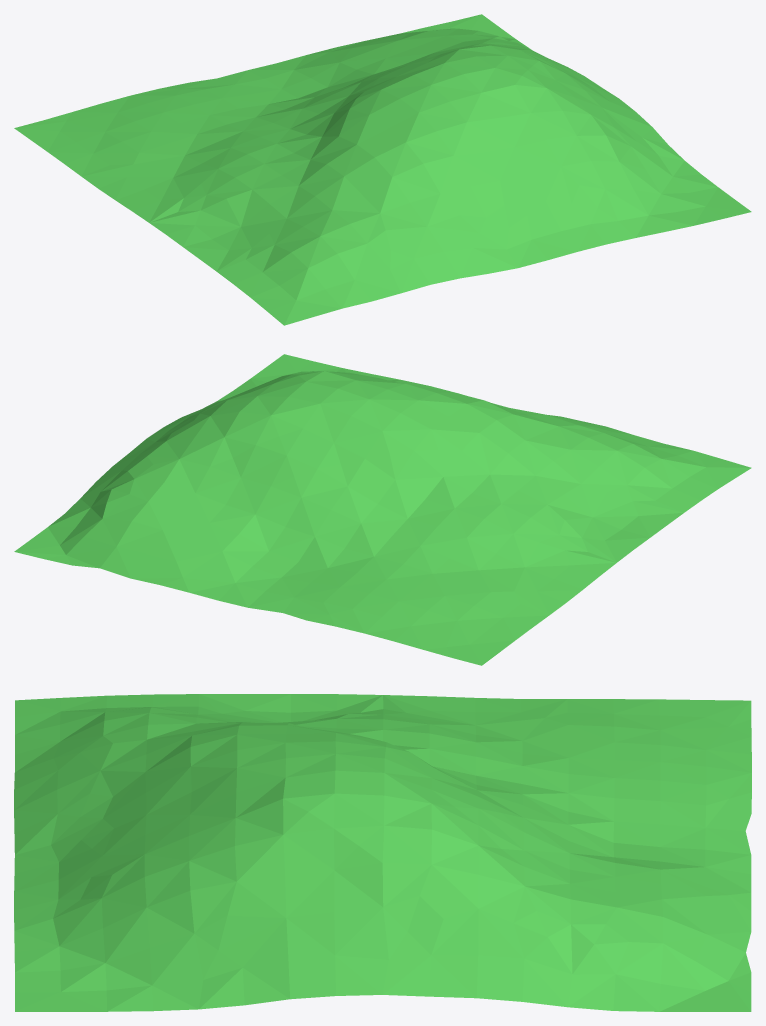
The model's file is Mountain 1.fbx.
3 renders of one model, top to bottom at view 1: azimuth 30°, elevation 25°; view 2: azimuth 150°, elevation 25°; view 3: azimuth 270°, elevation 25°, orthographic. The views are drawn at different scales.
Parts seen in each view (by area): view 1: Plane; view 2: Plane; view 3: Plane.
Boxes of the visible parts, left/top/right/bottom form: Plane: left=14, top=14, right=751, bottom=325; Plane: left=14, top=354, right=751, bottom=665; Plane: left=14, top=694, right=751, bottom=1011.
Bounding box in the file's own units: 1006 × 191 × 1003.
